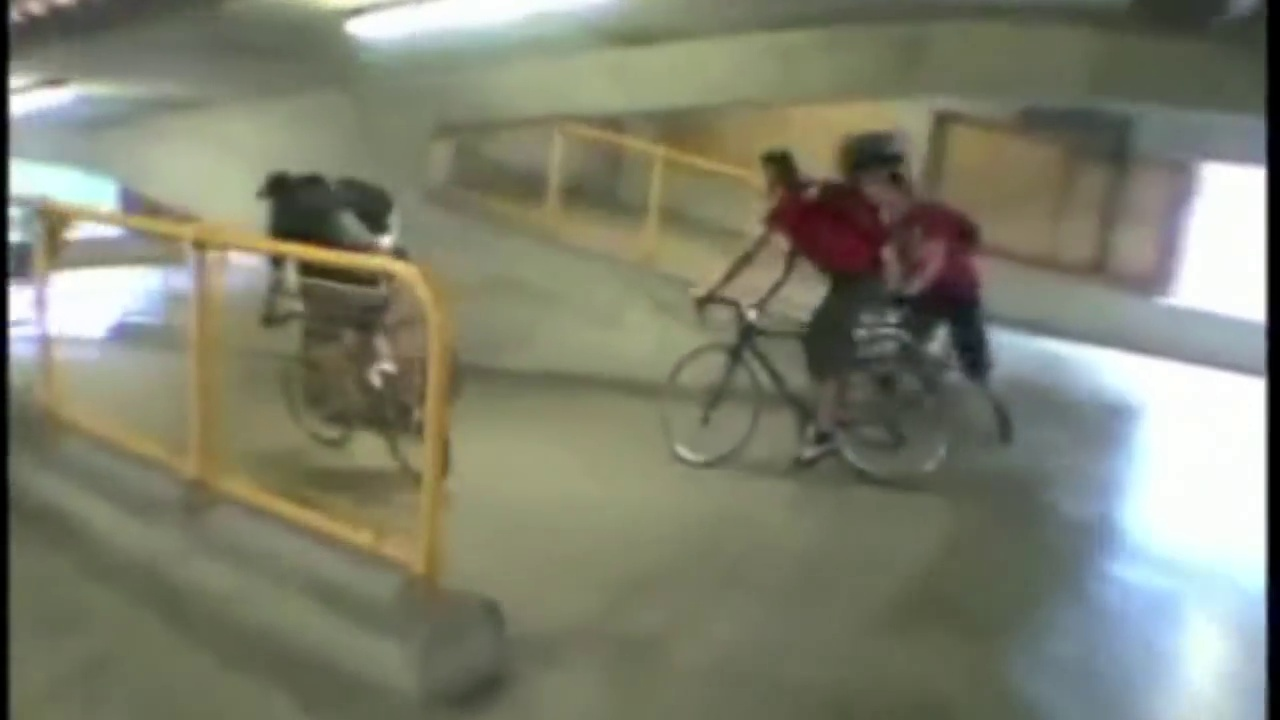cyclist_side: (659, 138, 962, 504), (232, 155, 466, 479)
